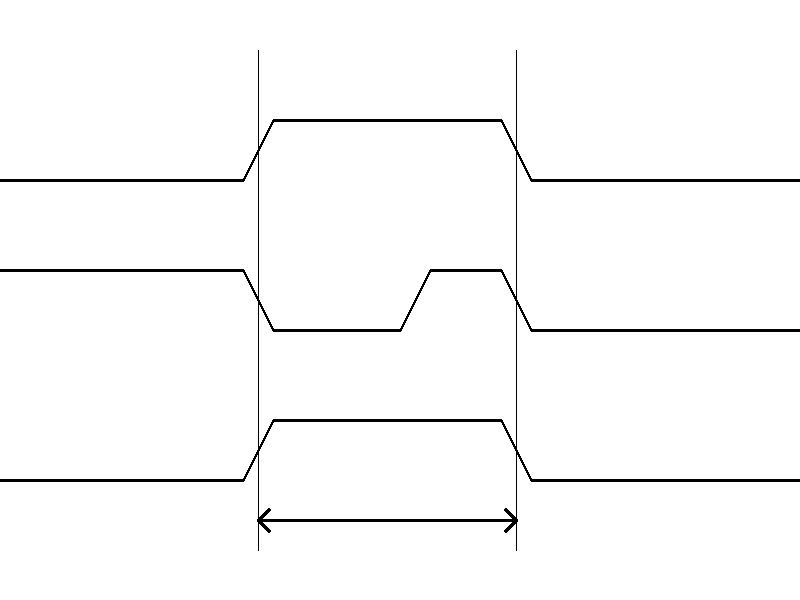double_arrow: (258, 505, 516, 535)
